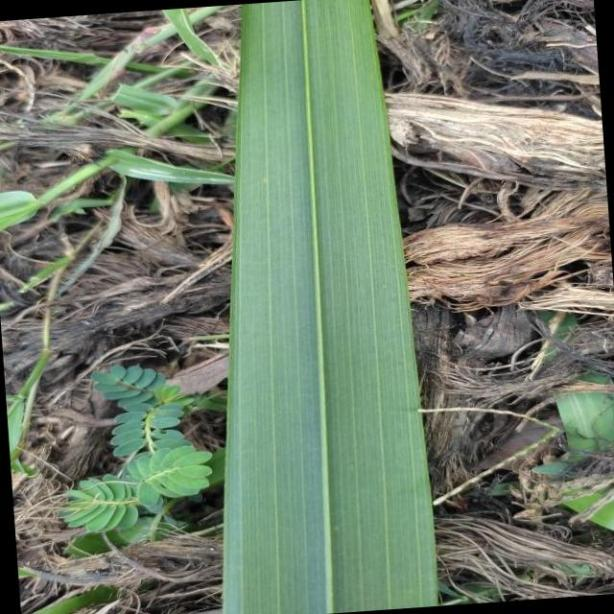Healthy: (225, 0, 440, 614)
